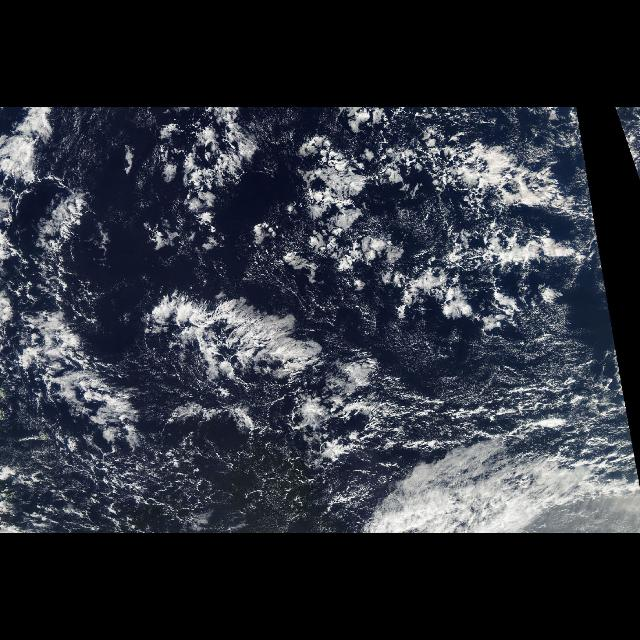Fish: (238, 124, 596, 340)
Gravel: (1, 122, 606, 530)
